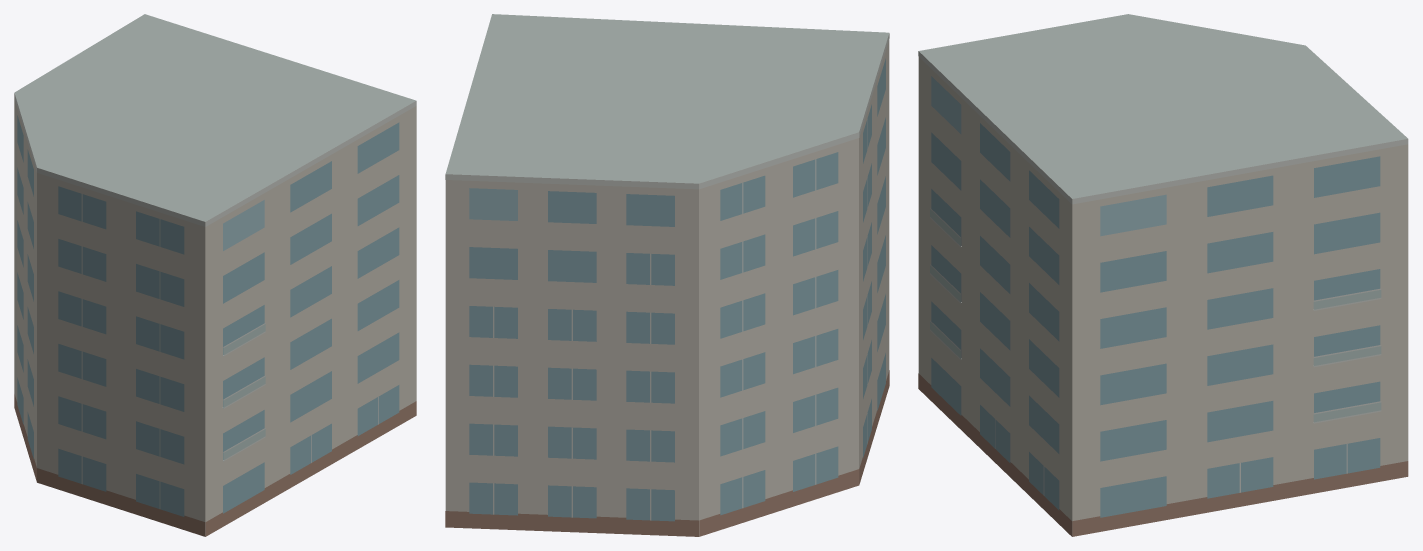
Rendered from survey-upis-32966466.glb.
The picture shows the model from 3 angles, left to right: view 1: azimuth 30°, elevation 25°; view 2: azimuth 150°, elevation 25°; view 3: azimuth 270°, elevation 25°; orthographic projection. The views are drawn at different scales.
Visible parts, largest first — view 1: survey-upis-32966466.tmp; view 2: survey-upis-32966466.tmp; view 3: survey-upis-32966466.tmp.
Boxes of the visible parts, x1,y1,x2,y2 form: survey-upis-32966466.tmp: [14, 14, 416, 536]; survey-upis-32966466.tmp: [445, 14, 889, 536]; survey-upis-32966466.tmp: [918, 14, 1408, 536].
Bounding box in the file's own units: 17.74 × 15.1 × 19.85.
